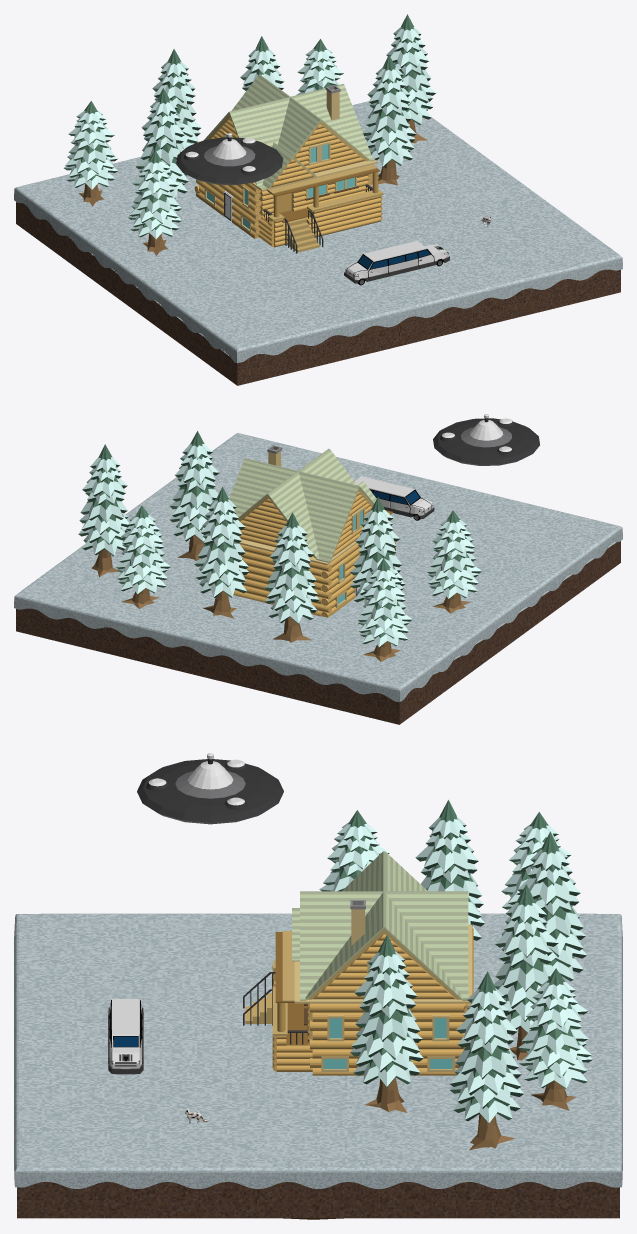
3 views of the same model, one above another, from view 1: azimuth 30°, elevation 25°; view 2: azimuth 150°, elevation 25°; view 3: azimuth 270°, elevation 25° (orthographic). The views are drawn at different scales.
Visible parts, largest first — view 1: Cube.003, Cube.1516, OBJRANDOM_UFO, VEHICLES_LIMOUSINE; view 2: Cube.003, Cube.1516, OBJRANDOM_UFO, VEHICLES_LIMOUSINE; view 3: Cube.003, Cube.1516, OBJRANDOM_UFO, VEHICLES_LIMOUSINE.
Boxes of the visible parts, bbox=[...] form: Cube.003: bbox=[14, 14, 622, 385]; Cube.1516: bbox=[194, 74, 383, 253]; OBJRANDOM_UFO: bbox=[176, 133, 283, 184]; VEHICLES_LIMOUSINE: bbox=[344, 241, 449, 285]; Cube.003: bbox=[14, 431, 622, 724]; Cube.1516: bbox=[229, 445, 396, 617]; OBJRANDOM_UFO: bbox=[433, 414, 539, 465]; VEHICLES_LIMOUSINE: bbox=[354, 476, 434, 520]; Cube.003: bbox=[14, 800, 622, 1218]; Cube.1516: bbox=[243, 851, 473, 1075]; OBJRANDOM_UFO: bbox=[137, 753, 283, 824]; VEHICLES_LIMOUSINE: bbox=[108, 999, 143, 1074].
Bounding box in the file's own units: 4040 × 1990 × 4040.
38 materials, 4 textured.
